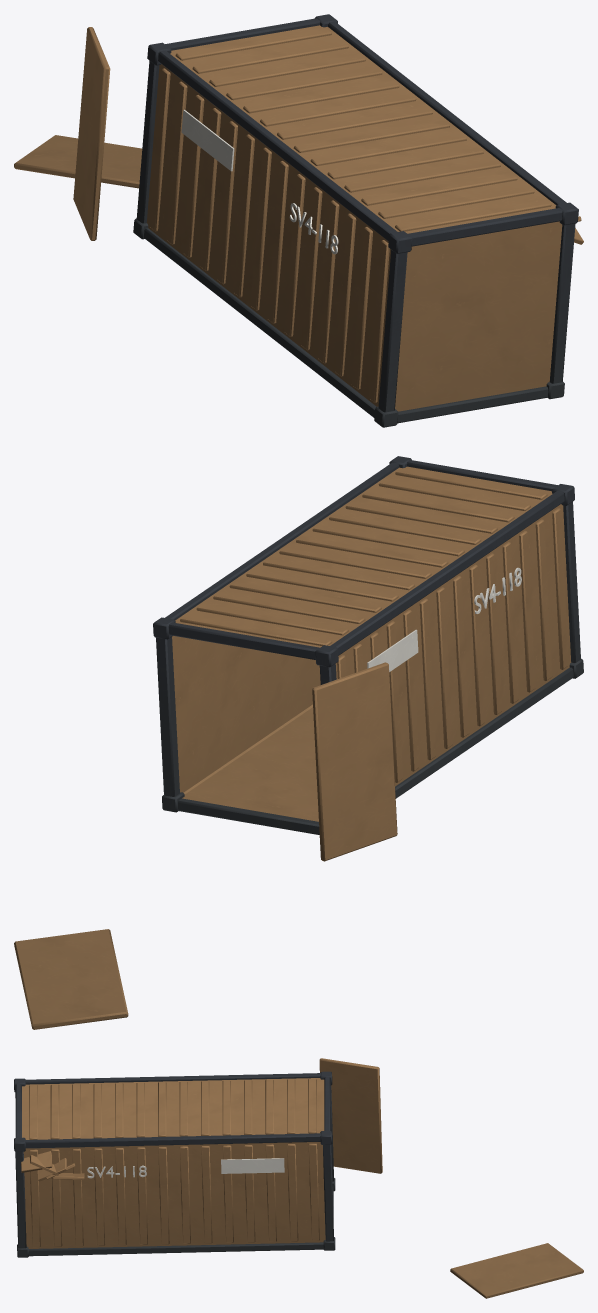
Rendered from sv04_container_tan.glb.
3 views of the same model, one above another, from view 1: azimuth 30°, elevation 25°; view 2: azimuth 150°, elevation 25°; view 3: azimuth 270°, elevation 25° (orthographic). The views are drawn at different scales.
Parts seen in each view (by area): view 1: sv04_container_tan; view 2: sv04_container_tan; view 3: sv04_container_tan.
Boxes of the visible parts, bbox=[...] form: sv04_container_tan: bbox=[14, 14, 583, 427]; sv04_container_tan: bbox=[14, 456, 583, 1029]; sv04_container_tan: bbox=[14, 1058, 583, 1298].
Size of what is drawn, in the model's own units: 3.68 by 3.55 by 10.82.
8 materials, 8 textured.
